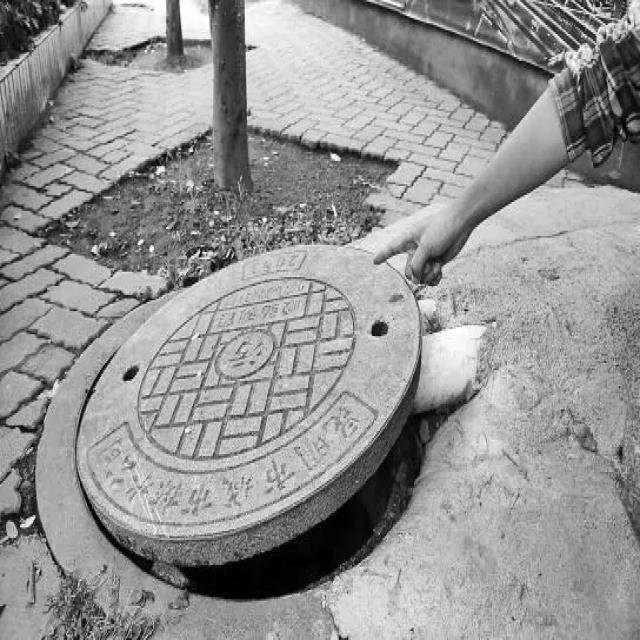manhole: (36, 245, 430, 639), (1, 151, 5, 182)
